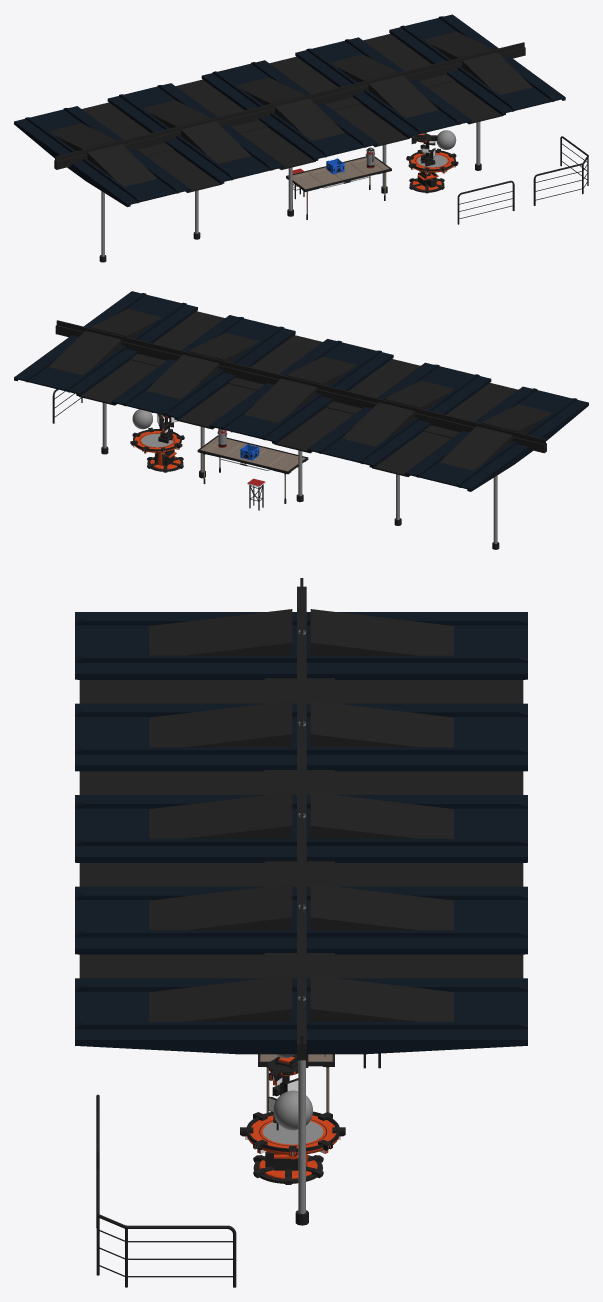
File: 音乐现场_其他杂物.fbx
3 renders of one model, top to bottom at view 1: azimuth 30°, elevation 25°; view 2: azimuth 150°, elevation 25°; view 3: azimuth 270°, elevation 25°, orthographic. The views are drawn at different scales.
Parts seen in each view (by area): view 1: 音乐现场_棚子, 音乐现场_不知道台子, 音乐现场_桌子_001, 音乐现场_围栏B_001, 音乐现场_围栏A_001; view 2: 音乐现场_棚子, 音乐现场_桌子_001, 音乐现场_不知道台子; view 3: 音乐现场_棚子, 音乐现场_不知道台子, 音乐现场_围栏B_001, 音乐现场_不知道台子_球1.
Boxes of the visible parts, <box> form: 音乐现场_棚子: <box>14,14,565,262</box>; 音乐现场_不知道台子: <box>406,133,458,193</box>; 音乐现场_桌子_001: <box>286,156,391,219</box>; 音乐现场_围栏B_001: <box>533,136,588,205</box>; 音乐现场_围栏A_001: <box>457,180,514,224</box>; 音乐现场_棚子: <box>14,291,588,549</box>; 音乐现场_桌子_001: <box>197,435,308,503</box>; 音乐现场_不知道台子: <box>130,413,184,472</box>; 音乐现场_棚子: <box>75,578,527,1225</box>; 音乐现场_不知道台子: <box>240,1054,345,1184</box>; 音乐现场_围栏B_001: <box>96,1169,236,1287</box>; 音乐现场_不知道台子_球1: <box>273,1090,312,1130</box>.
Size of the model in its own units: 148 by 33.44 by 59.2.
